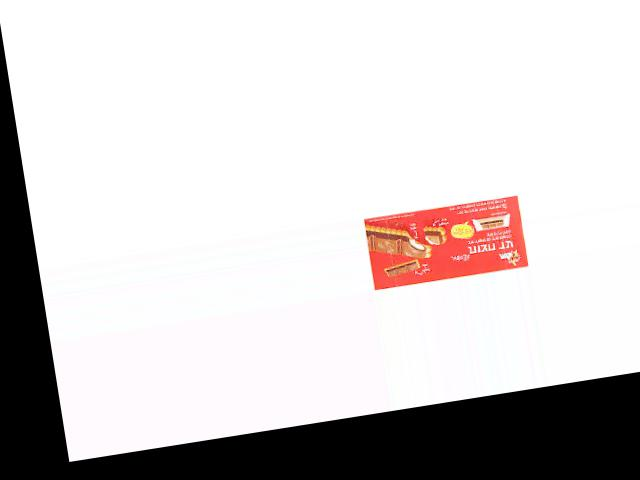chocolate: (362, 193, 531, 291)
